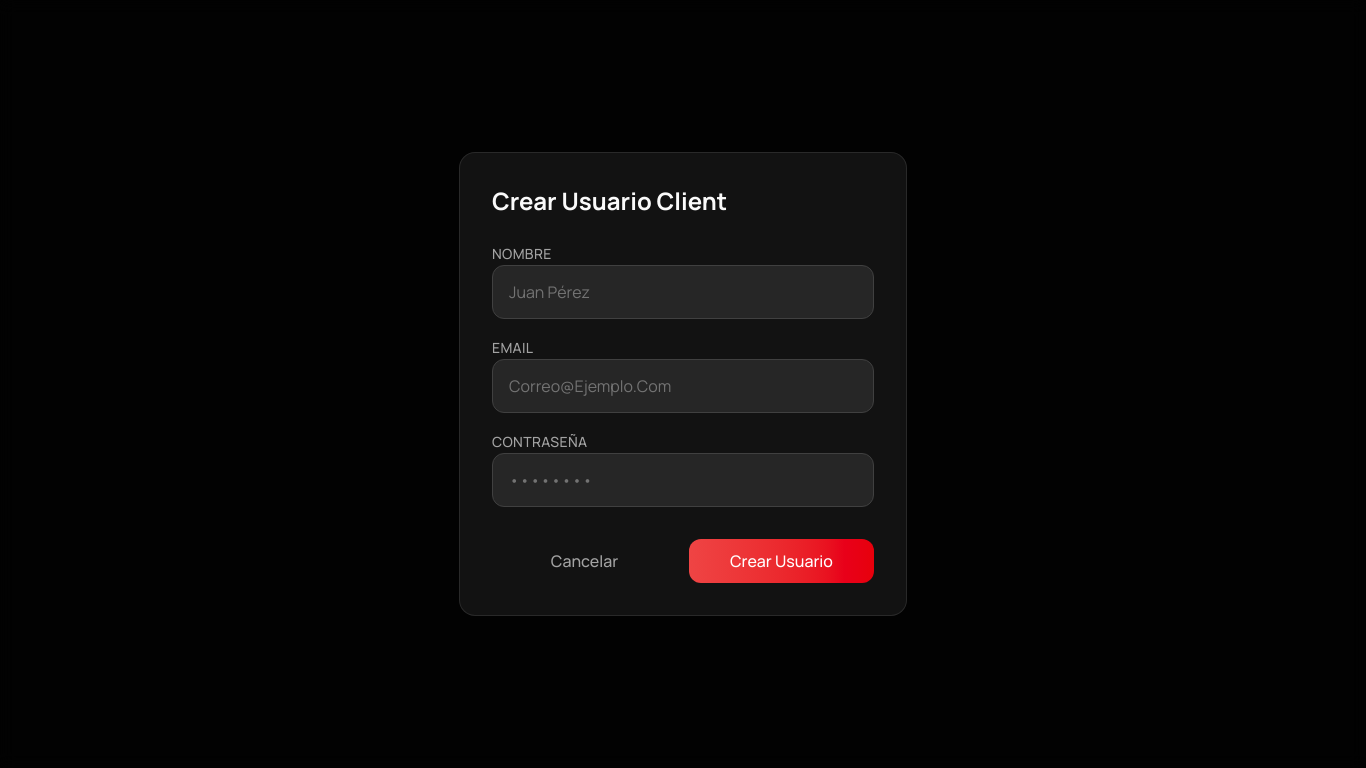
CreateClientModal › shows validation error for short name
The image size is (1366, 768).
Type "A" into the field with placeholder "Juan Pérez" at (683, 292), box [492,265,874,319]
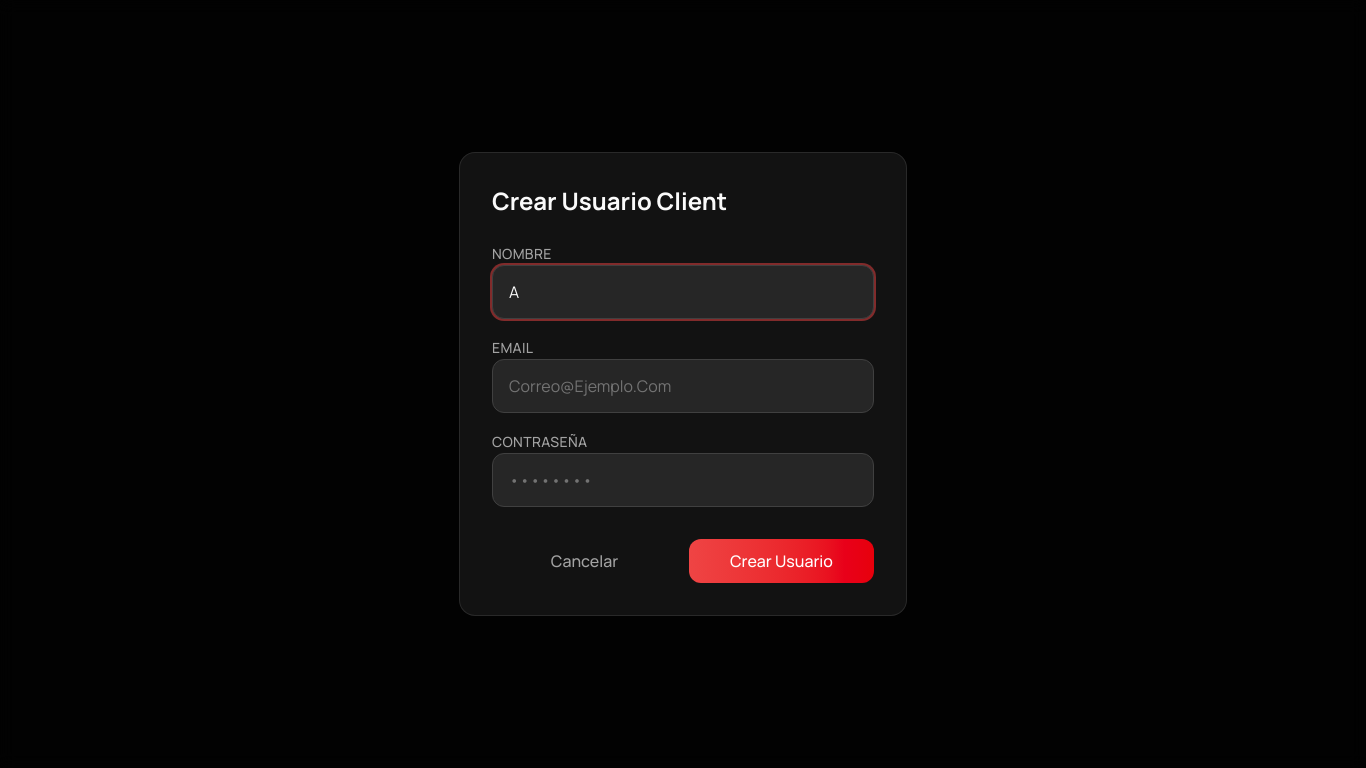
Click the button "Crear Usuario" at (782, 561), box [689,539,874,583]
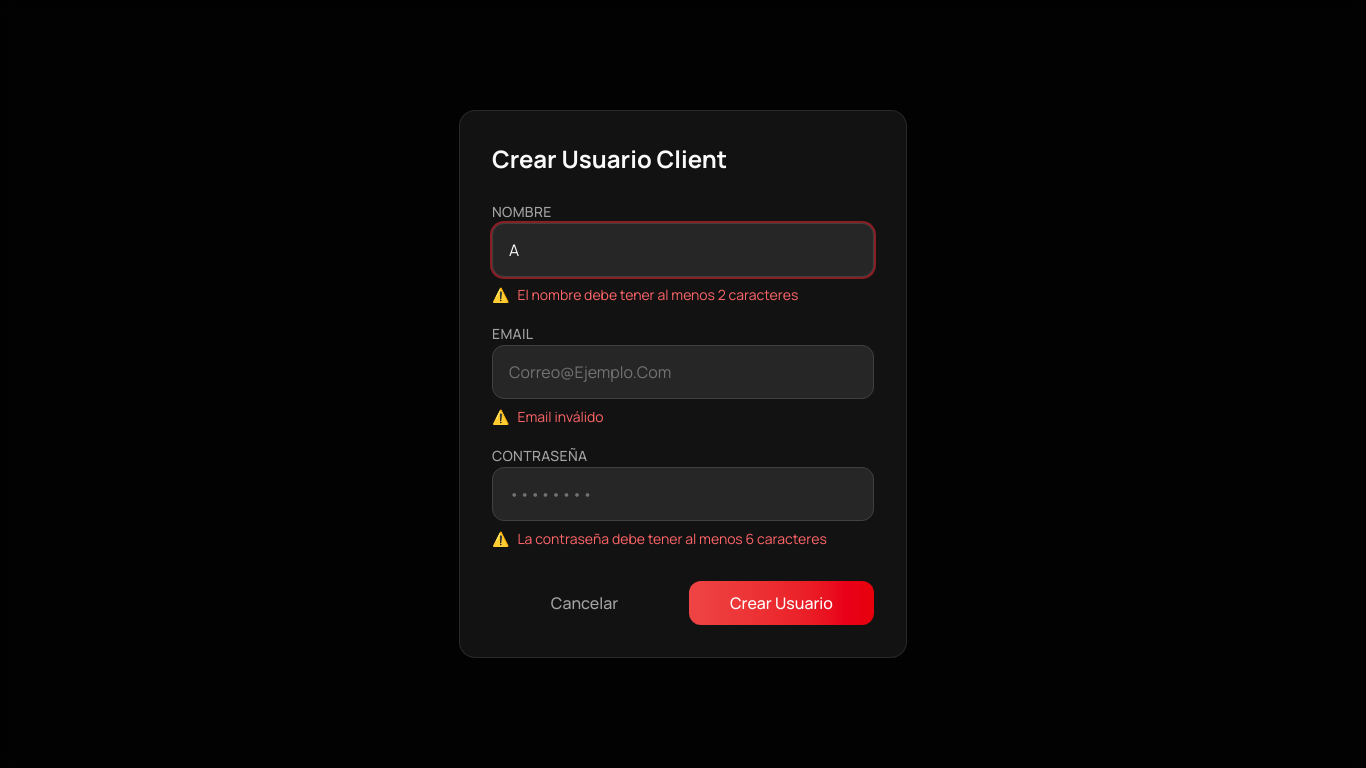
Expected: the text "El nombre debe tener al menos 2 caracteres" is shown, [518,285,798,304]
